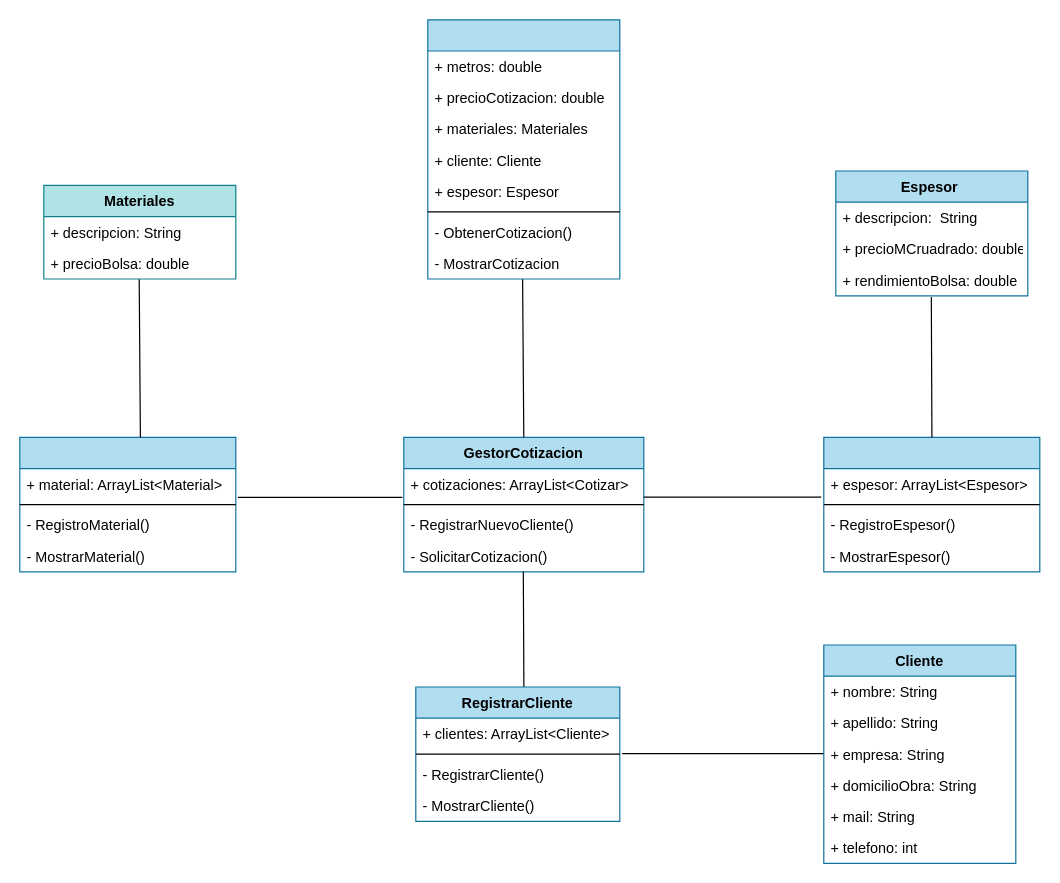
The diagram is 1060 pixels wide and 883 high, and some of its shapes have lost their labels. The shapes that lost their labels are listed below. From the top down, each one's box as (x1, y1, x2, y2) in pixels, then its label:
(427, 19, 620, 279): Cotizar
(19, 436, 236, 572): RegistrarMaterial
(823, 436, 1040, 572): RegistrarEspesor
